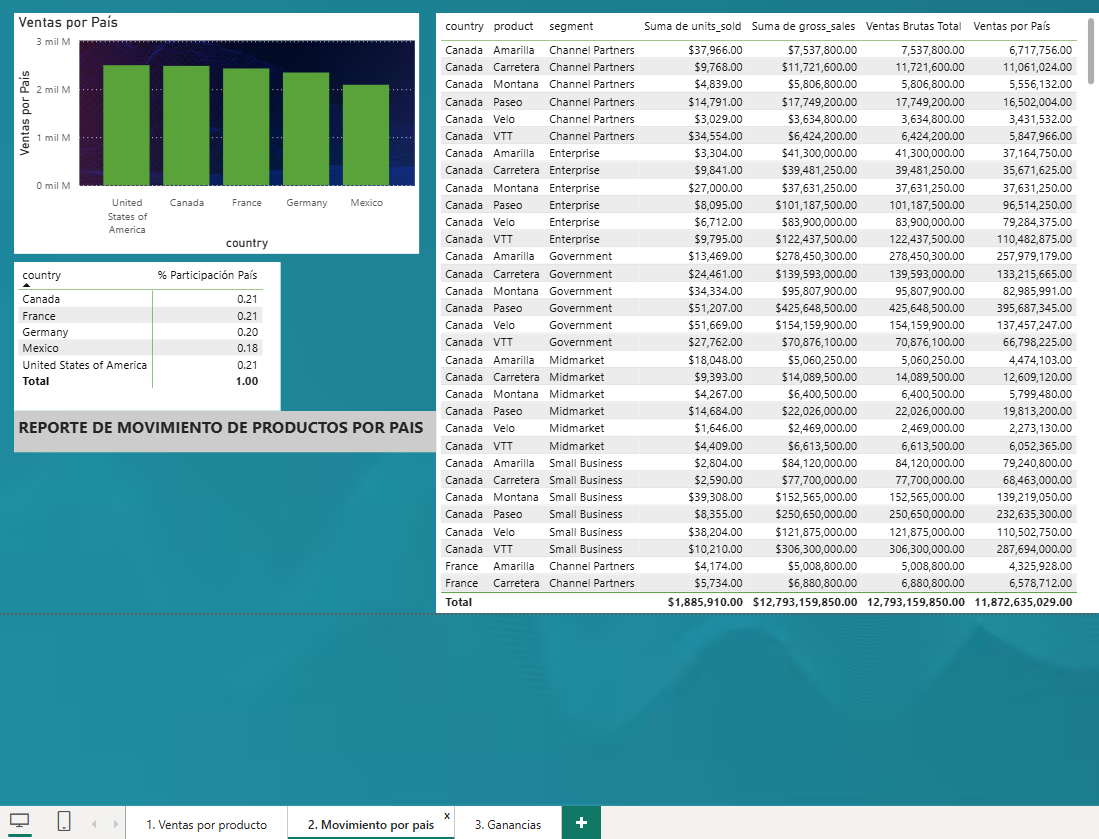

This screenshot's page, from the dashboard's own definition file:
{"tool":"powerbi","page":{"name":"2. Movimiento por pais","canvas":[1280,720],"ordinal":1},"visuals":[{"type":"clusteredColumnChart","title":"Ventas por País ","fields":{"Y":["staging_raw.Ventas por País"],"Category":["staging_raw.country"]},"box":[18.6,22.1,470.8,280.2],"z":0},{"type":"pivotTable","fields":{"Values":["staging_raw.% Participación País"],"Rows":["staging_raw.country"]},"box":[18.6,311.6,310.4,173.2],"z":1},{"type":"tableEx","fields":{"Values":["staging_raw.country","staging_raw.product","staging_raw.segment","Sum(staging_raw.units_sold)","Sum(staging_raw.gross_sales)","staging_raw.Ventas Brutas Total","staging_raw.Ventas por País"]},"box":[509.2,22.1,770.8,697.5],"z":2},{"type":"textbox","box":[18.6,484.8,490.6,47.7],"z":3}]}

Visuals, with their boxes on the page's 1280x720 design canvas (x1, y1, x2, y2). These are canvas units, not pixel positions in the 1099x839 screenshot, which may show the page scaled, cropped or inside an application window:
"Ventas por País " clusteredColumnChart: [x1=19, y1=22, x2=489, y2=302]
pivotTable - staging_raw.% Participación País x staging_raw.country: [x1=19, y1=312, x2=329, y2=485]
tableEx - staging_raw.country x staging_raw.product: [x1=509, y1=22, x2=1280, y2=720]
textbox: [x1=19, y1=485, x2=509, y2=532]
